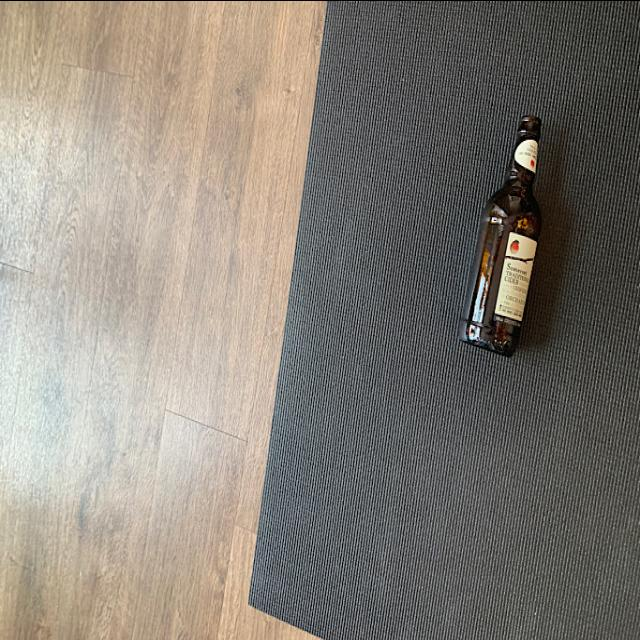Glass Bottle: (458, 108, 548, 358)
